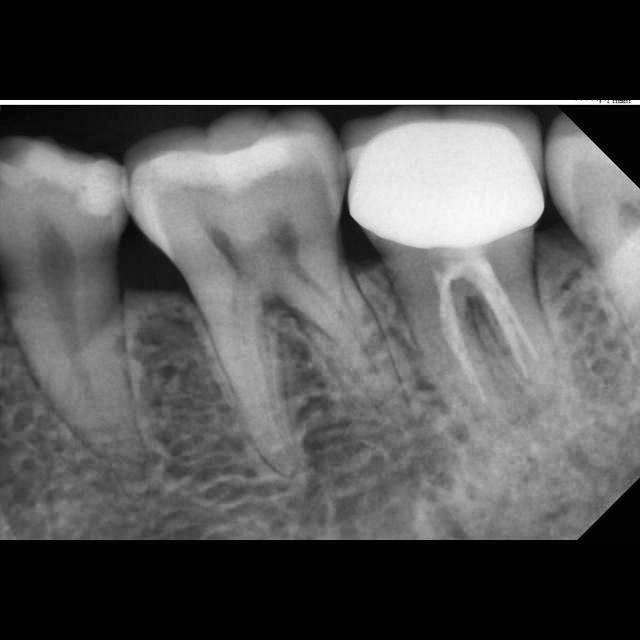tooth: (0, 141, 141, 470)
